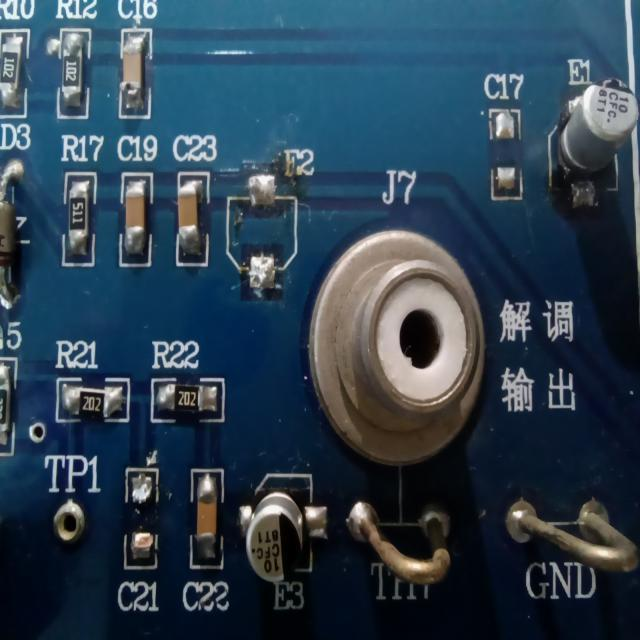Missing component: (224, 140, 318, 300), (118, 458, 166, 620), (485, 67, 532, 209)
